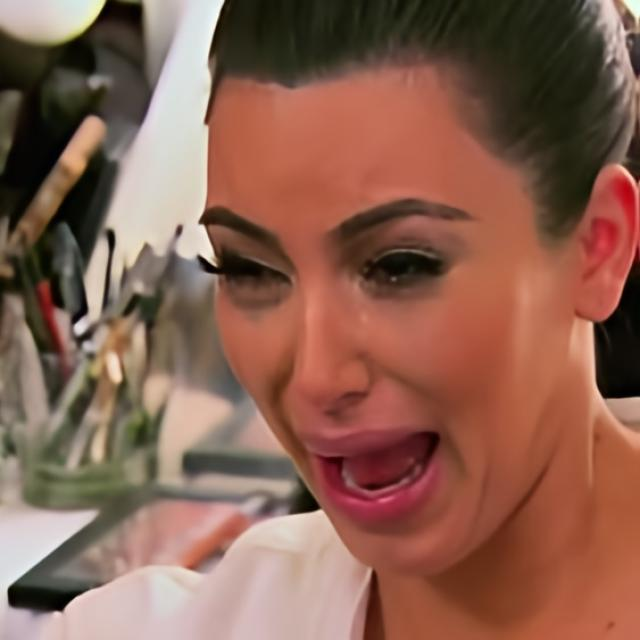sad: (194, 85, 572, 580)
